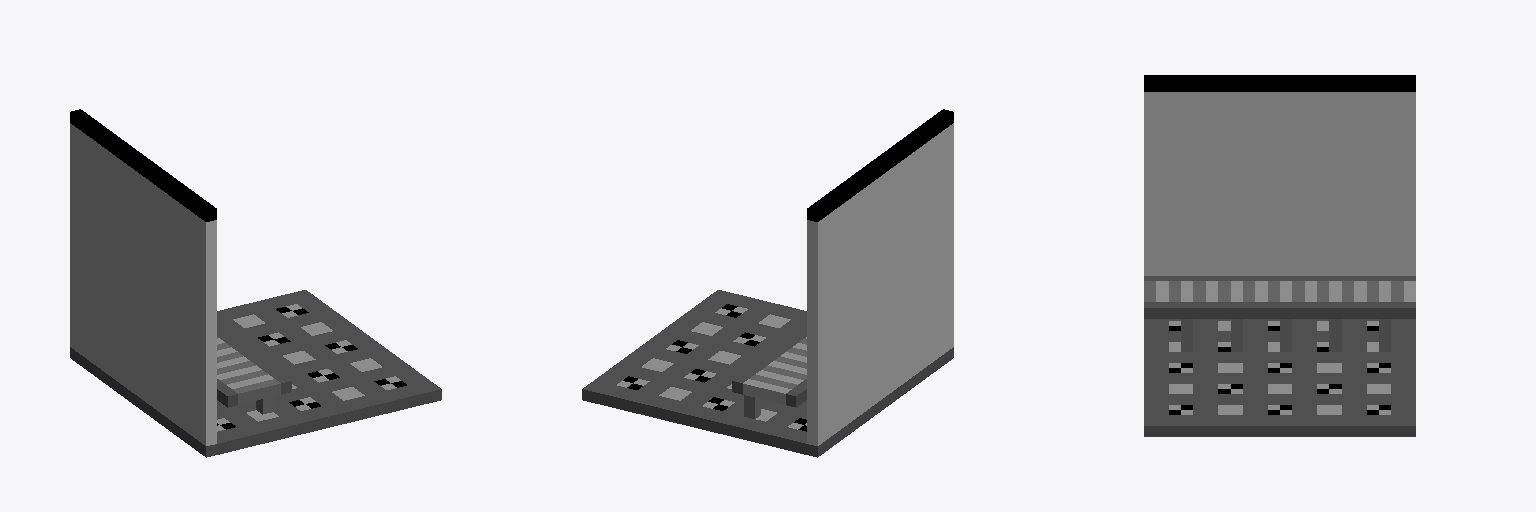
3 renders of one model, left to right at view 1: azimuth 30°, elevation 25°; view 2: azimuth 150°, elevation 25°; view 3: azimuth 270°, elevation 25°, orthographic.
Visible parts, largest first — view 1: level_one-8; view 2: level_one-8; view 3: level_one-8.
Boxes of the visible parts, x1=… form: level_one-8: x1=70, y1=109, x2=441, y2=457; level_one-8: x1=582, y1=109, x2=953, y2=457; level_one-8: x1=1144, y1=75, x2=1415, y2=436.
Bounding box in the file's own units: 22 × 22 × 22.
1 materials, 1 textured.